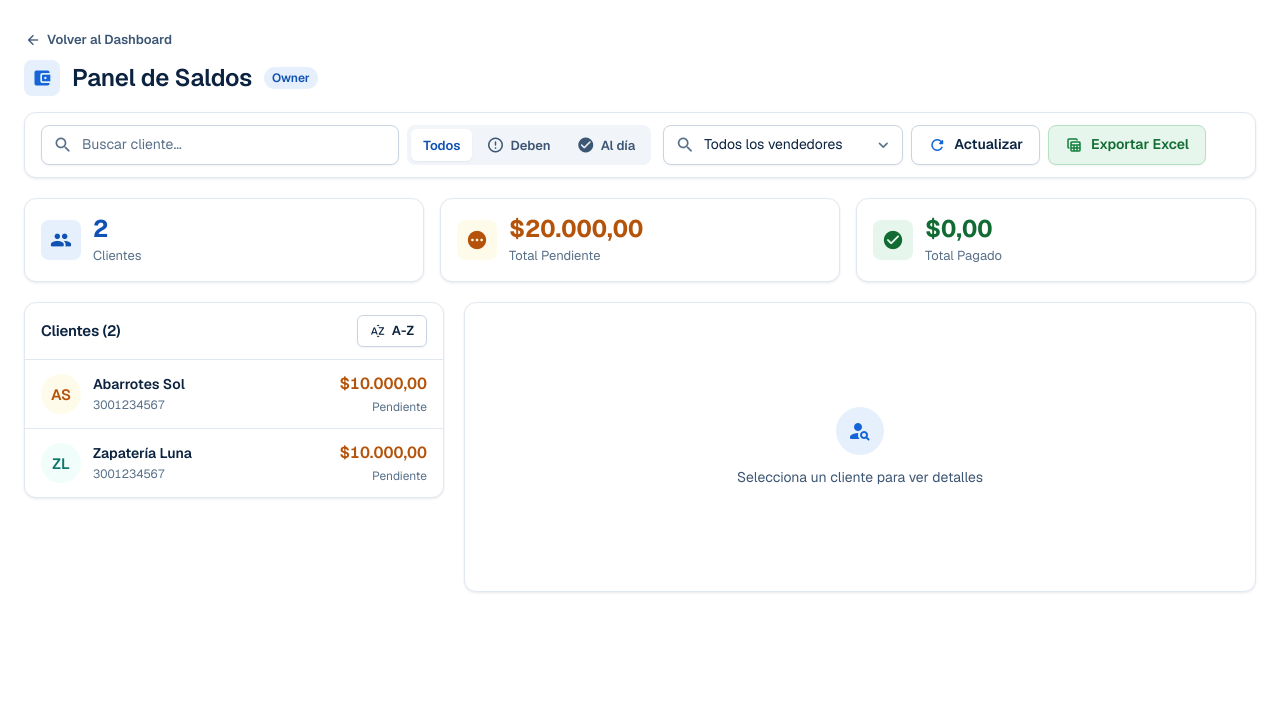
Scenario: lo guardado que no es una opción vuelve al defecto
Expected: the button "A-Z" is shown, [357,315,427,347]
What coordinates should you click on to do the following:
click the text "Abarrotes Sol"
I would click on:
 (139, 385)
Its box is [93,374,185,395].
(page scrolled)
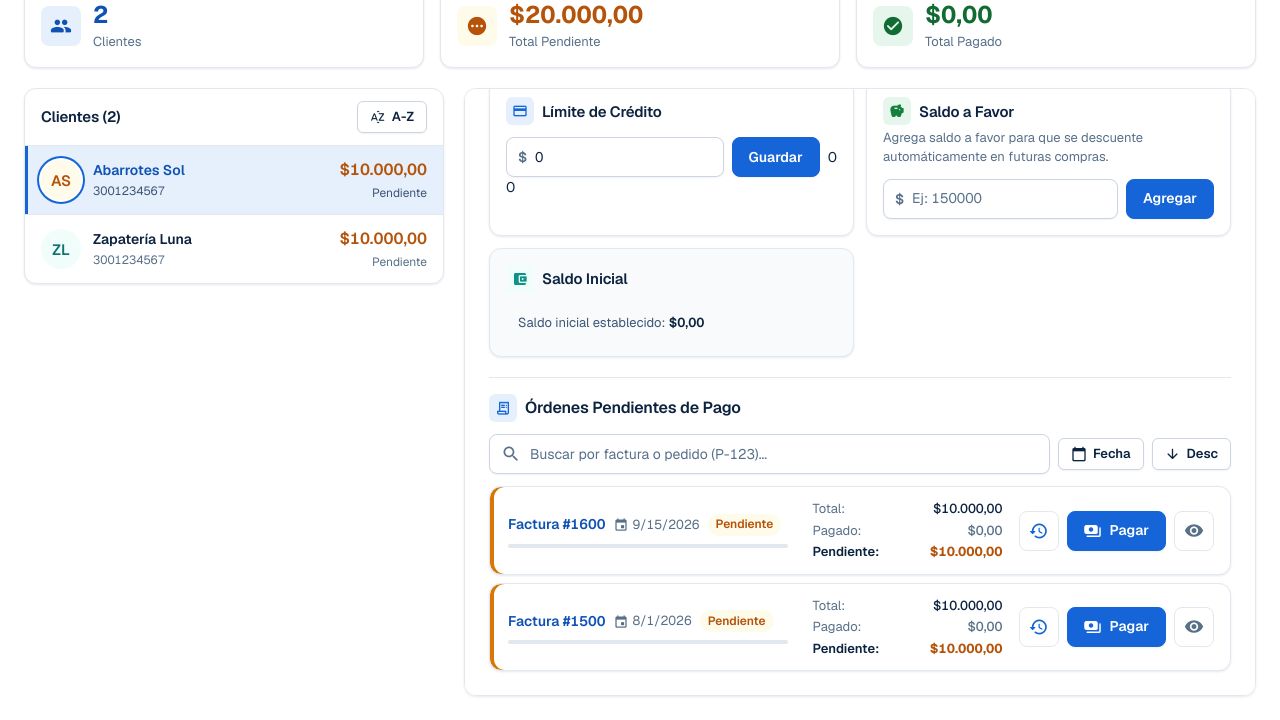
Now the heading "Órdenes Pendientes de Pago" is shown, box [489,394,741,422]
Now the button "Fecha" is shown, box [1058,438,1144,470]
Now the button "Desc" is shown, box [1152,438,1231,470]
